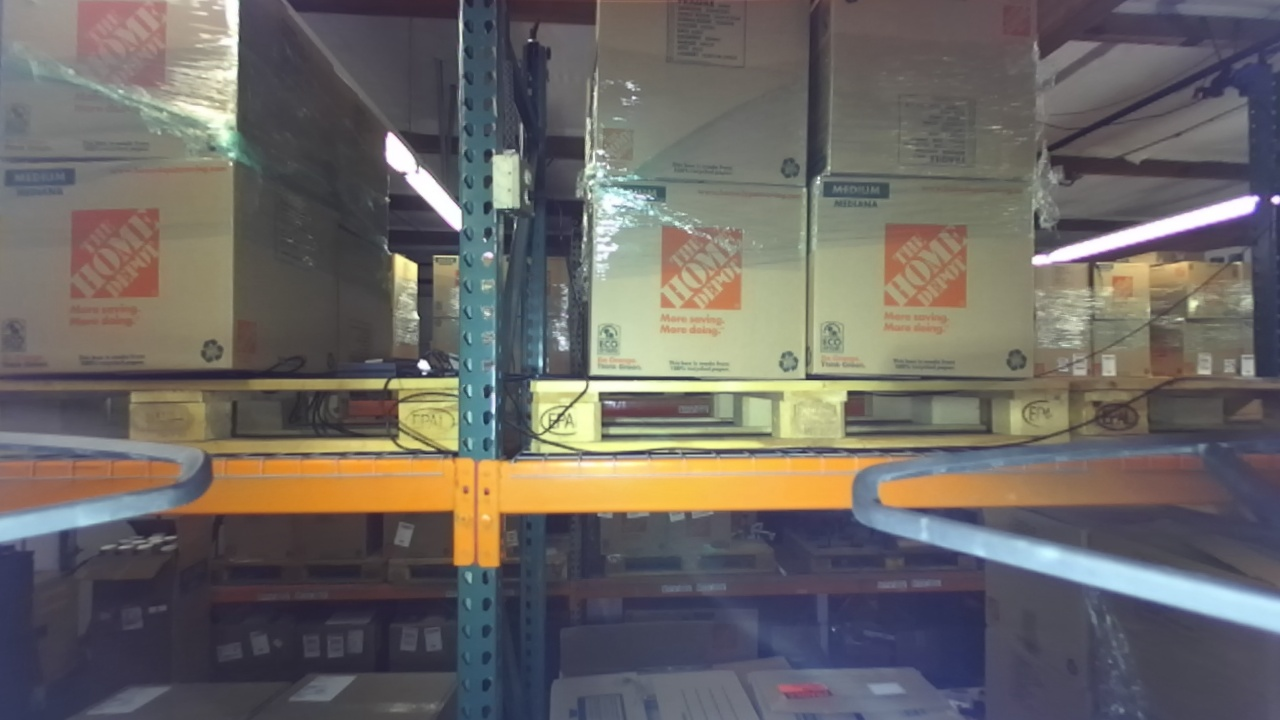box: (1, 147, 272, 391), (800, 151, 1055, 398), (581, 159, 824, 390), (808, 1, 1068, 194), (570, 1, 816, 203), (1, 1, 276, 180)
